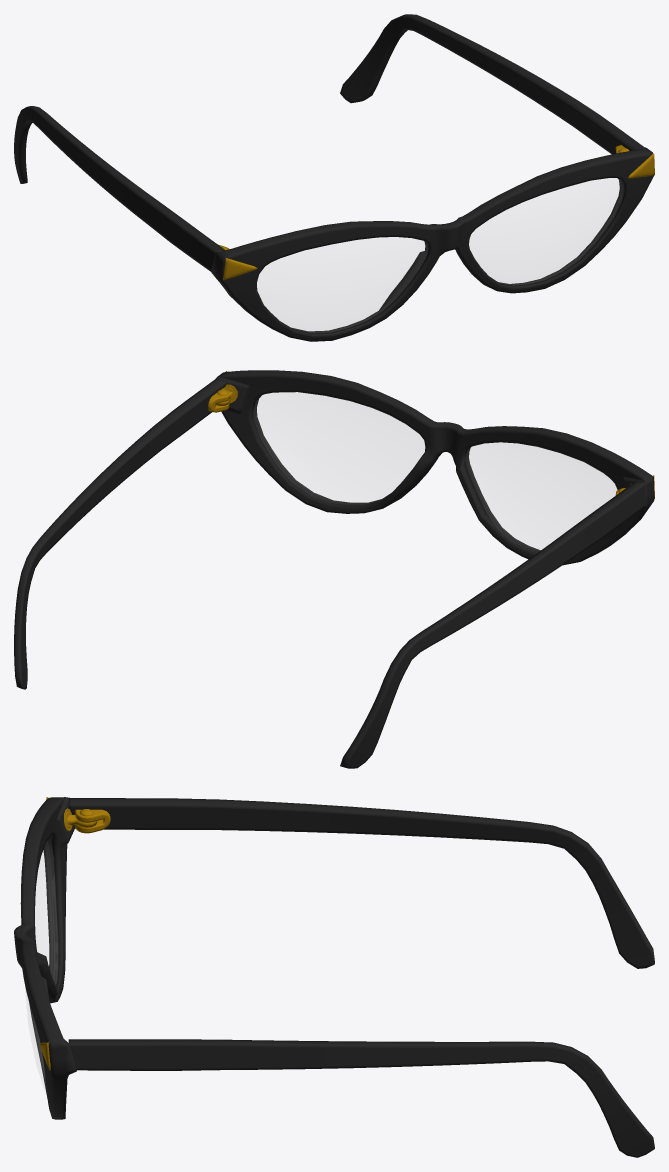
Rendered from glasses-vv-4.dae.
3 renders of one model, top to bottom at view 1: azimuth 30°, elevation 25°; view 2: azimuth 150°, elevation 25°; view 3: azimuth 270°, elevation 25°, orthographic. The views are drawn at different scales.
Parts seen in each view (by area): view 1: GLASSES_4; view 2: GLASSES_4; view 3: GLASSES_4.
Boxes of the visible parts, bbox=[...] form: GLASSES_4: bbox=[14, 14, 654, 341]; GLASSES_4: bbox=[14, 370, 654, 768]; GLASSES_4: bbox=[14, 797, 654, 1157].
Bounding box in the file's own units: 0.1405 × 0.0413 × 0.1532.
